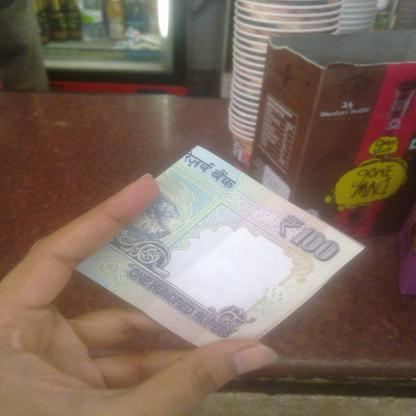Old100Back: (74, 146, 365, 348)
